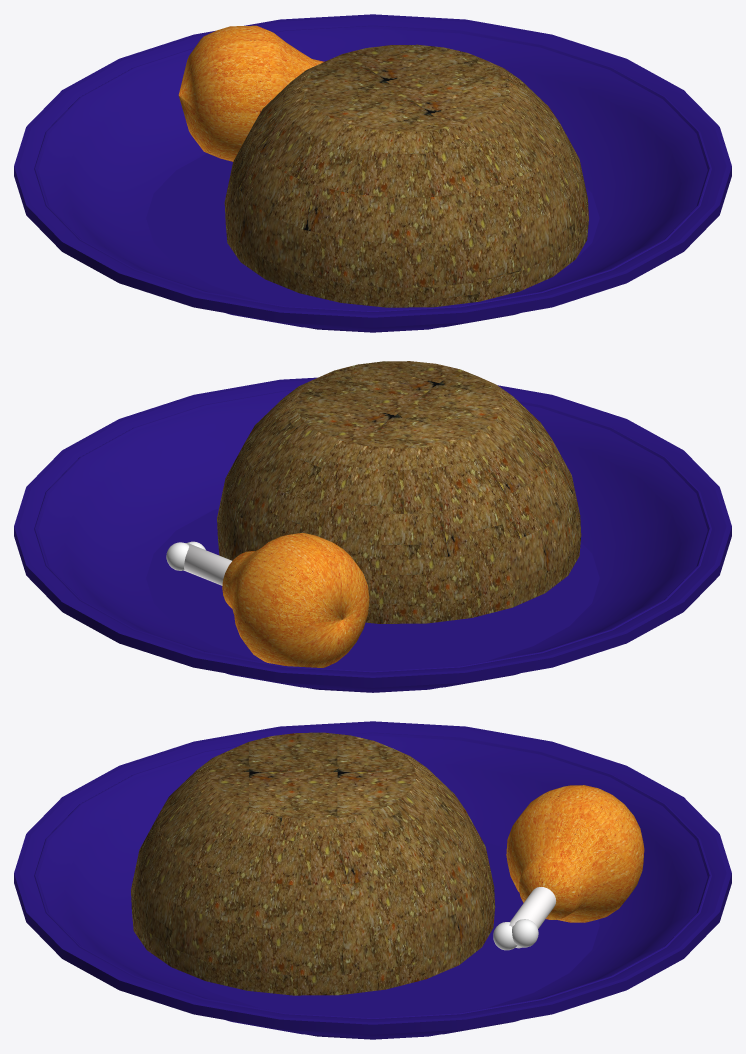
File: nasi goreng paha ayam.fbx
3 views of the same model, one above another, from view 1: azimuth 30°, elevation 25°; view 2: azimuth 150°, elevation 25°; view 3: azimuth 270°, elevation 25° (orthographic).
Parts seen in each view (by area): view 1: piring.002, rice, Chicken leg.001; view 2: piring.002, rice, Chicken leg.001; view 3: piring.002, rice, Chicken leg.001.
Boxes of the visible parts, x1,y1,x2,y2 form: piring.002: [14, 14, 731, 332]; rice: [224, 44, 588, 307]; Chicken leg.001: [178, 25, 324, 161]; piring.002: [14, 377, 731, 692]; rice: [217, 361, 581, 623]; Chicken leg.001: [166, 533, 369, 667]; piring.002: [14, 721, 731, 1039]; rice: [131, 732, 495, 995]; Chicken leg.001: [493, 785, 644, 950].
Size of the model in its own units: 9706 by 2599 by 9706.
